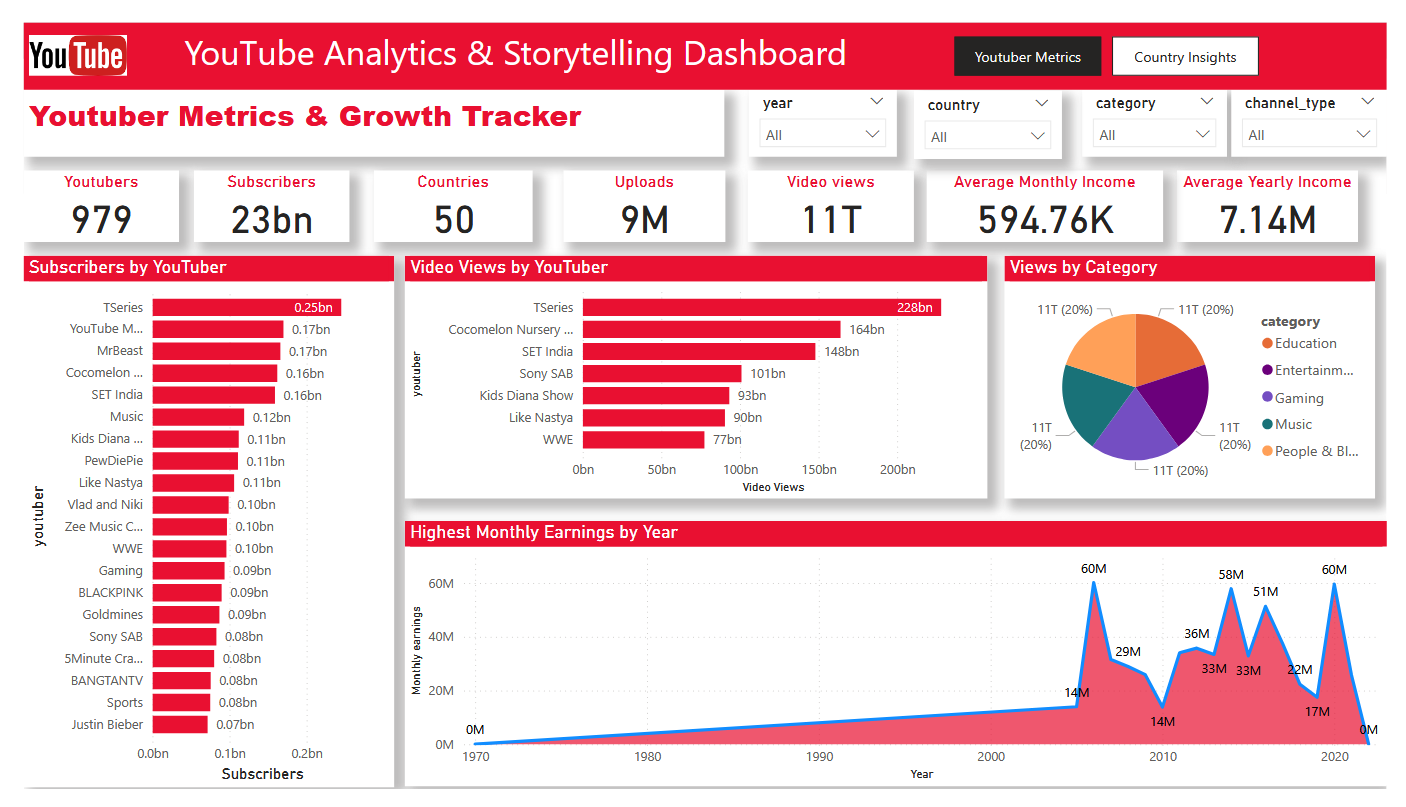

The page's visual inventory and layout, read from the dashboard file:
{"tool":"powerbi","page":{"name":"Youtuber Metrics ","canvas":[1280,720],"ordinal":0},"visuals":[{"type":"textbox","box":[0,0,1280,62.8],"z":0,"group":"g1"},{"type":"slicer","fields":{"Values":["calender.year"]},"box":[681,61.9,139.3,63.8],"z":0},{"type":"slicer","fields":{"Values":["GLOBAL YOUTUBE DATA.category"]},"box":[994.4,61.9,135.4,63.8],"z":1000},{"type":"slicer","fields":{"Values":["GLOBAL YOUTUBE DATA.channel_type"]},"box":[1133.6,61.9,147,63.8],"z":2000},{"type":"textbox","box":[0,62.8,658.2,62.8],"z":3000},{"type":"card","title":"Youtubers","fields":{"Values":["DAX Measures.total youtubers"]},"box":[0,139.3,145.7,66.4],"z":4000},{"type":"card","title":"Subscribers","fields":{"Values":["DAX Measures.total subscribers"]},"box":[160.3,139.3,145.7,66.4],"z":5000},{"type":"card","title":"Countries","fields":{"Values":["DAX Measures.total countries"]},"box":[328.7,139.3,149,66.4],"z":6000},{"type":"card","title":"Uploads","fields":{"Values":["DAX Measures.total uploads"]},"box":[506.8,139.3,152.2,66.4],"z":7000},{"type":"card","title":"Video views","fields":{"Values":["DAX Measures.total video views"]},"box":[680.1,139.3,155.4,66.4],"z":8000},{"type":"card","title":"Average Yearly Income","fields":{"Values":["DAX Measures.avg yearly earning"]},"box":[1083.3,139.3,170,66.4],"z":9000},{"type":"card","title":"Average  Monthly  Income","fields":{"Values":["DAX Measures.avg monthly earnings"]},"box":[848.5,139.3,221.8,66.4],"z":10000},{"type":"barChart","title":"Subscribers by YouTuber","fields":{"Y":["GLOBAL YOUTUBE DATA.subscribers"],"Category":["GLOBAL YOUTUBE DATA.youtuber"]},"box":[0,218.6,348.2,499.1],"z":11000},{"type":"slicer","fields":{"Values":["GLOBAL YOUTUBE DATA.country"]},"box":[835.7,63.8,139.3,63.8],"z":12000},{"type":"barChart","title":"Video Views by YouTuber","fields":{"Category":["GLOBAL YOUTUBE DATA.youtuber"],"Y":["GLOBAL YOUTUBE DATA.video_views"]},"box":[357.9,218.6,547.5,228.3],"z":13000},{"type":"lineChart","title":"Highest Monthly Earnings by Year","fields":{"Category":["Growth trend.date.Variation.Date Hierarchy.Year"],"Y":["GLOBAL YOUTUBE DATA.highest_monthly_earnings"]},"box":[357.8,468,923,249.4],"z":14000},{"type":"pieChart","title":"Views by Category","fields":{"Category":["GLOBAL YOUTUBE DATA.category"],"Y":["Views by category.total_views"]},"box":[921.3,218.6,348.1,228.3],"z":15000},{"type":"group","id":"g1","title":"Group 1","box":[0,0,1280,62.8],"z":16000},{"type":"image","box":[0,6.5,102,48.6],"z":17000,"group":"g1"},{"type":"pageNavigator","box":[874.4,13,286.6,37.2],"z":17000}]}

Visuals, with their boxes in screenshot pixels (x1, y1, x2, y2), scaled from the page's 1280x720 canvas onto the 1406x807 screenshot:
textbox: 0 0 1405 70
slicer - calender.year: 748 69 901 141
slicer - GLOBAL YOUTUBE DATA.category: 1092 69 1241 141
slicer - GLOBAL YOUTUBE DATA.channel_type: 1245 69 1405 141
textbox: 0 70 723 141
"Youtubers" card: 0 156 160 231
"Subscribers" card: 176 156 336 231
"Countries" card: 361 156 525 231
"Uploads" card: 557 156 724 231
"Video views" card: 747 156 918 231
"Average Yearly Income" card: 1190 156 1377 231
"Average  Monthly  Income" card: 932 156 1176 231
"Subscribers by YouTuber" barChart: 0 245 382 804
slicer - GLOBAL YOUTUBE DATA.country: 918 72 1071 143
"Video Views by YouTuber" barChart: 393 245 995 501
"Highest Monthly Earnings by Year" lineChart: 393 525 1405 804
"Views by Category" pieChart: 1012 245 1394 501
"Group 1" group: 0 0 1405 70
image: 0 7 112 62
pageNavigator: 960 15 1275 56
